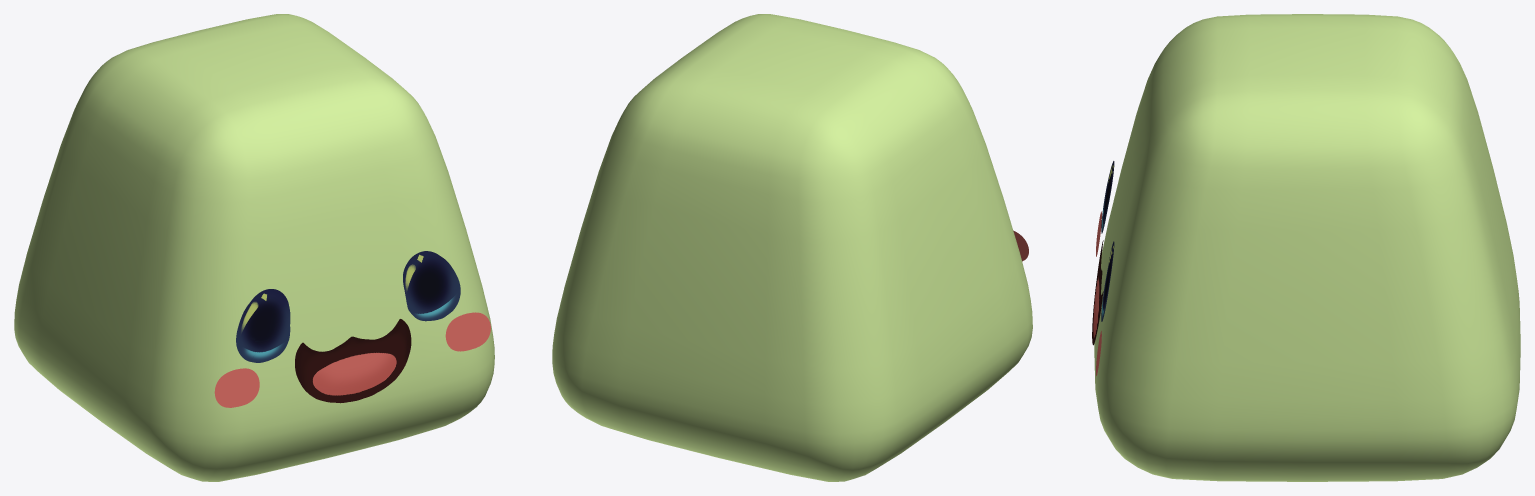
Rendered from Tumble_Trapezoid_shape.fbx.
3 renders of one model, left to right at view 1: azimuth 30°, elevation 25°; view 2: azimuth 150°, elevation 25°; view 3: azimuth 270°, elevation 25°, orthographic. The views are drawn at different scales.
Visible parts, largest first — view 1: Tumble Body.001, Mouth, LeftEye, RightEye, RightBlush, LeftBlush; view 2: Tumble Body.001; view 3: Tumble Body.001, Mouth.
Boxes of the visible parts, x1,y1,x2,y2 form: Tumble Body.001: (14, 14, 494, 481); Mouth: (295, 319, 411, 403); LeftEye: (403, 251, 460, 321); RightEye: (236, 289, 290, 362); RightBlush: (214, 368, 259, 407); LeftBlush: (445, 312, 490, 351); Tumble Body.001: (552, 14, 1032, 481); Tumble Body.001: (1094, 14, 1520, 481); Mouth: (1092, 240, 1103, 345).
Bounding box in the file's own units: 198 × 193 × 201.
6 materials, 5 textured.
